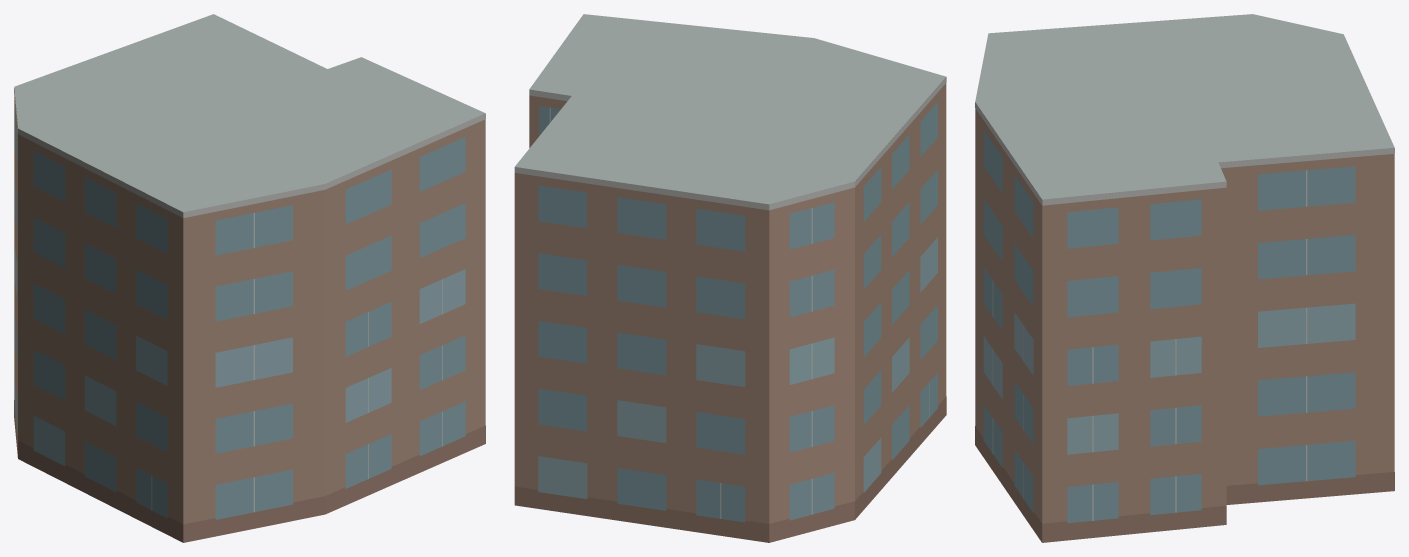
Rendered from survey-upis-32769631.glb.
3 renders of one model, left to right at view 1: azimuth 30°, elevation 25°; view 2: azimuth 150°, elevation 25°; view 3: azimuth 270°, elevation 25°, orthographic. The views are drawn at different scales.
Parts seen in each view (by area): view 1: survey-upis-32769631.tmp; view 2: survey-upis-32769631.tmp; view 3: survey-upis-32769631.tmp.
Part boxes in pixels (x1,y1,x2,y2): survey-upis-32769631.tmp: (14,14,485,542); survey-upis-32769631.tmp: (514,14,946,542); survey-upis-32769631.tmp: (975,14,1394,542).
Size of the model in its own units: 16.13 by 13.9 by 15.41.
